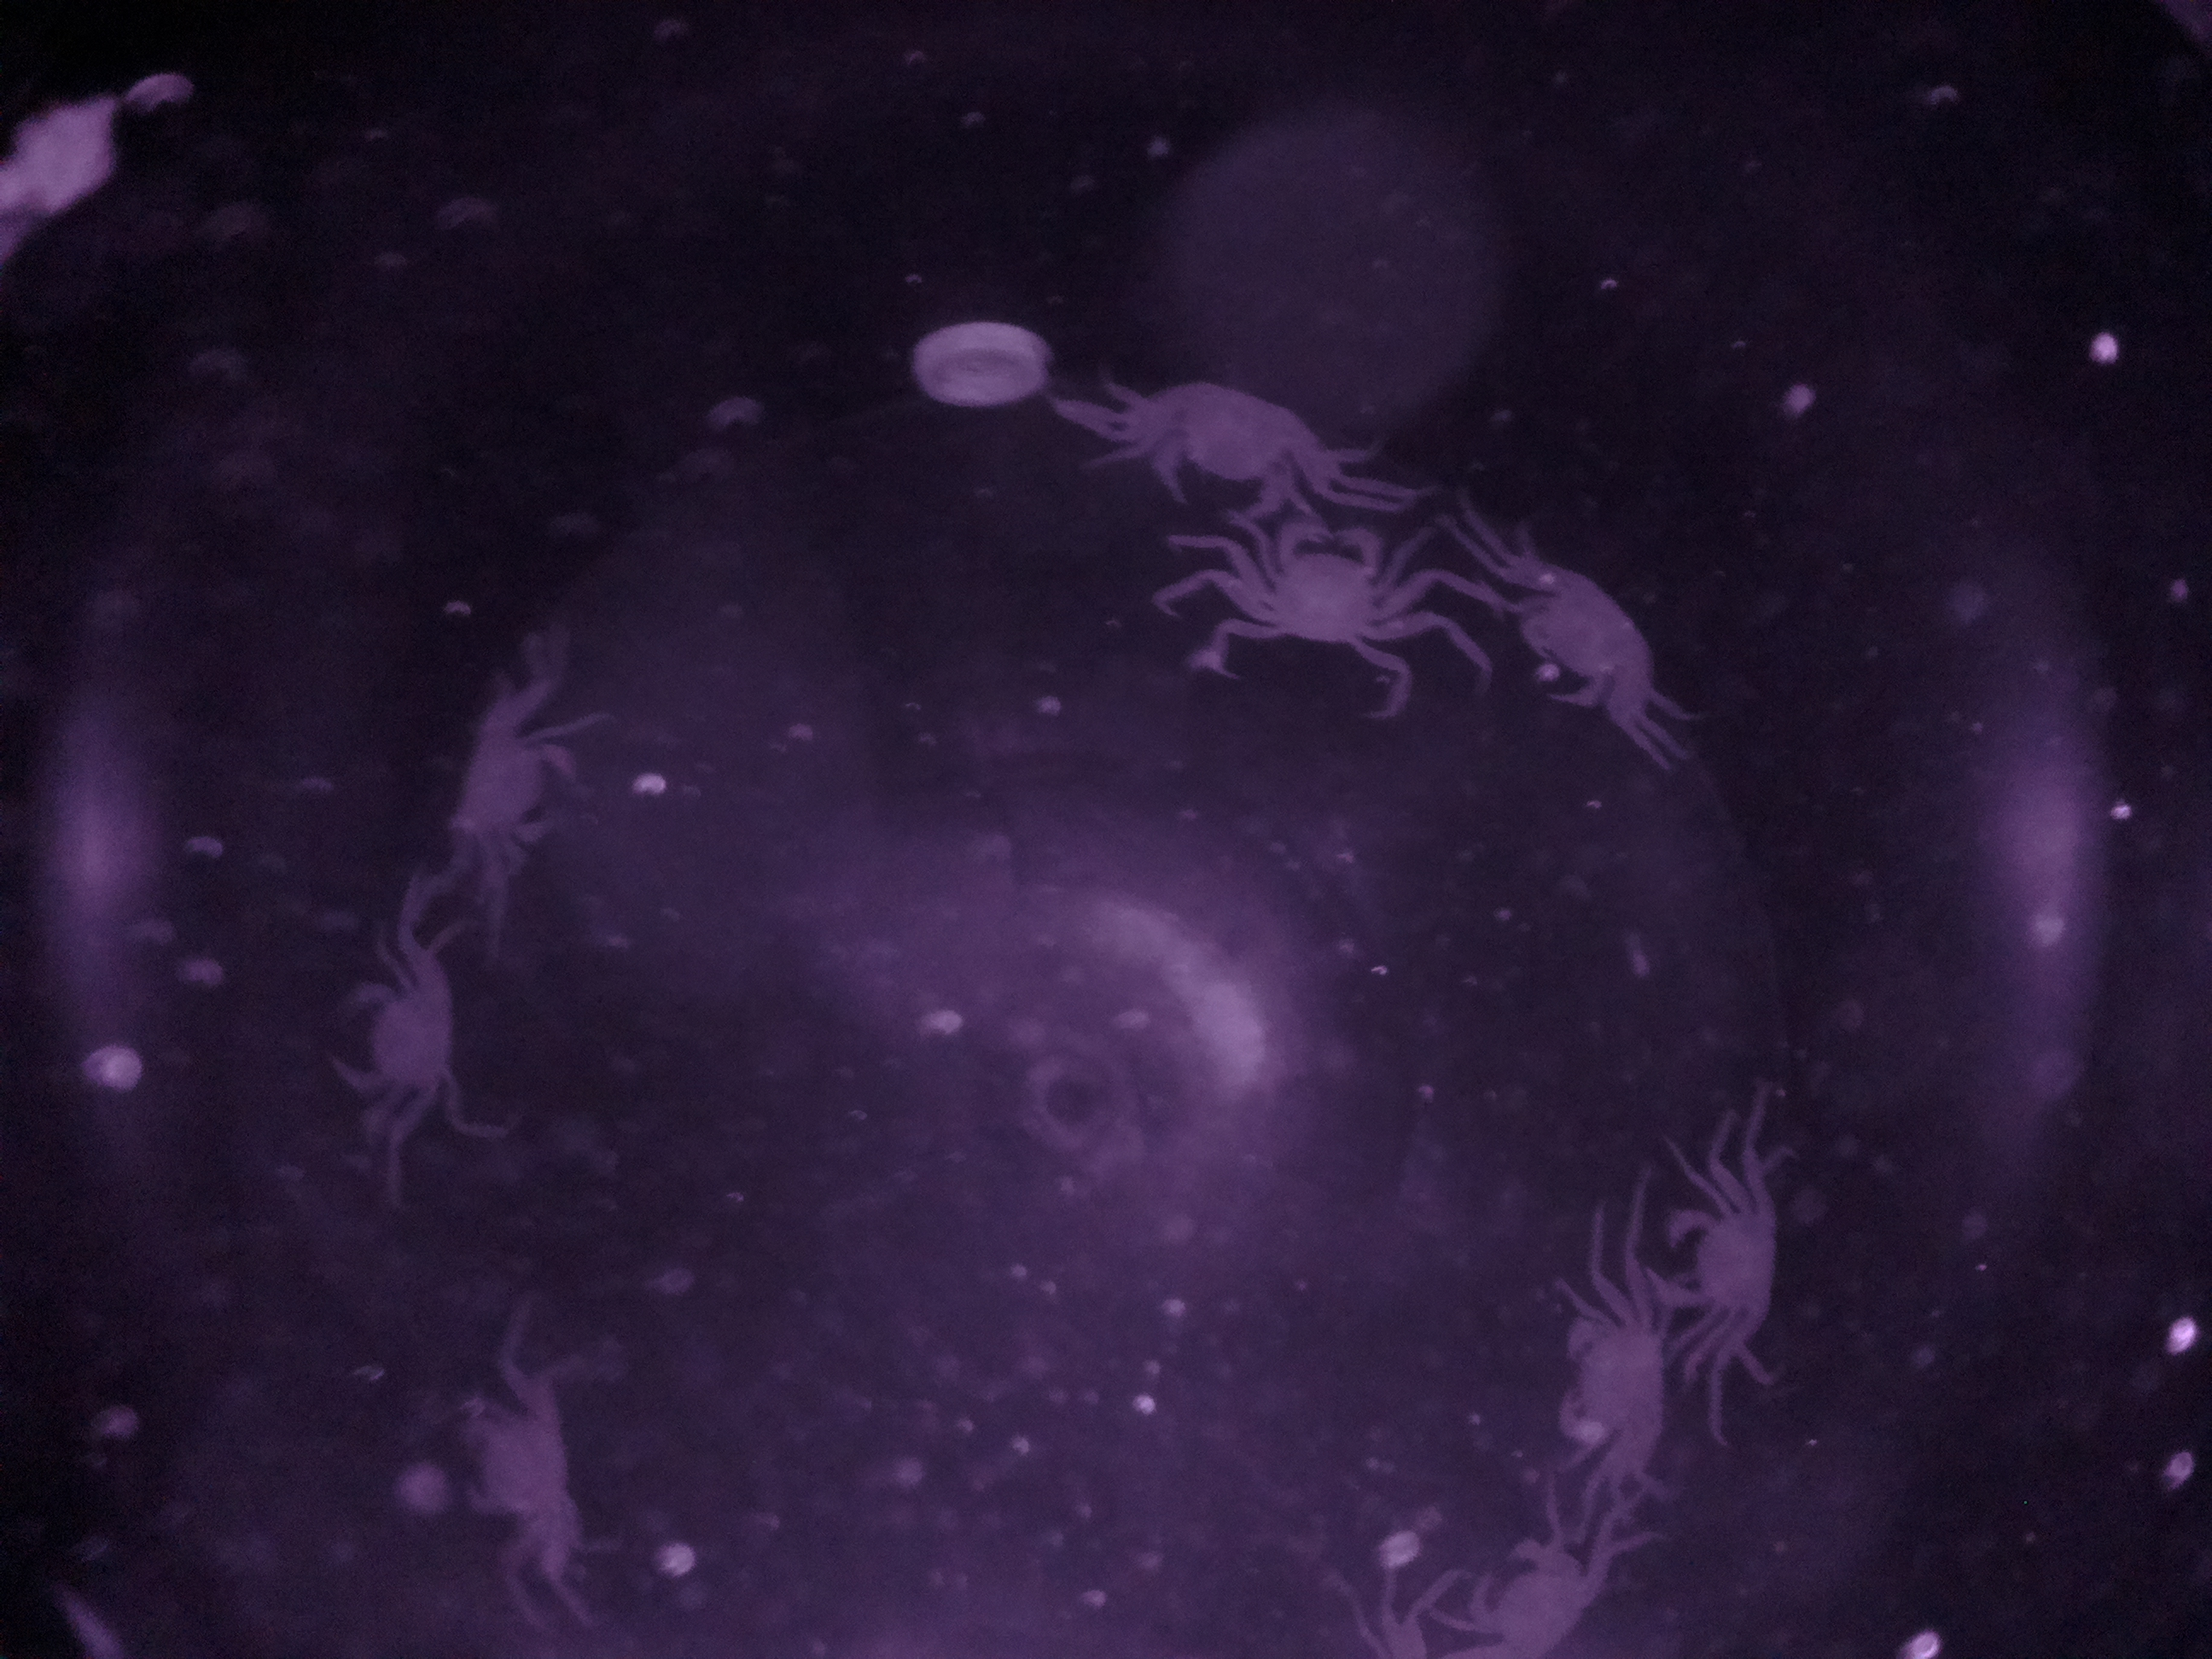Crab: (1120, 357, 1346, 519), (1486, 551, 1676, 725), (1522, 1277, 1688, 1467), (434, 688, 594, 884), (1242, 495, 1402, 683), (1635, 1168, 1808, 1342), (1451, 1499, 1623, 1659), (322, 951, 474, 1121)
